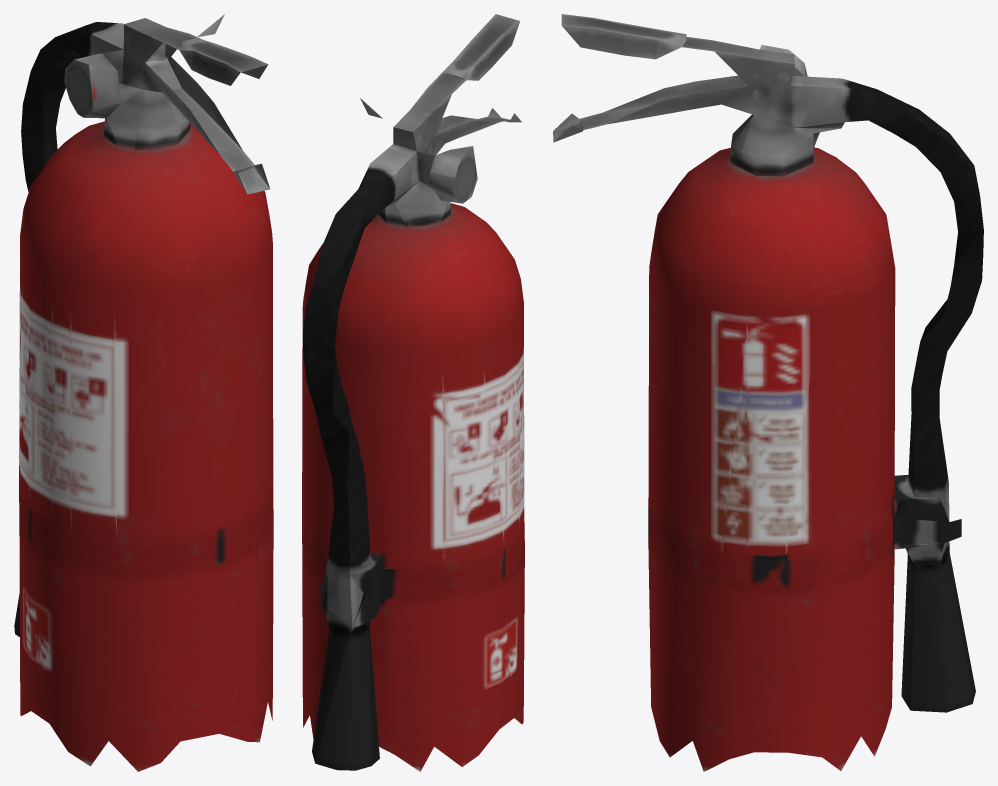
Rendered from extinguisher_jp.glb.
3 views of the same model, side by side, from view 1: azimuth 30°, elevation 25°; view 2: azimuth 150°, elevation 25°; view 3: azimuth 270°, elevation 25° (orthographic). The views are drawn at different scales.
Parts seen in each view (by area): view 1: mesh; view 2: mesh; view 3: mesh.
Part boxes in pixels (x1,y1,x2,y2): mesh: [14, 14, 273, 771]; mesh: [302, 14, 524, 771]; mesh: [553, 14, 983, 771].
Bounding box in the file's own units: 0.1594 × 0.5 × 0.2752.
1 material, 1 textured.
